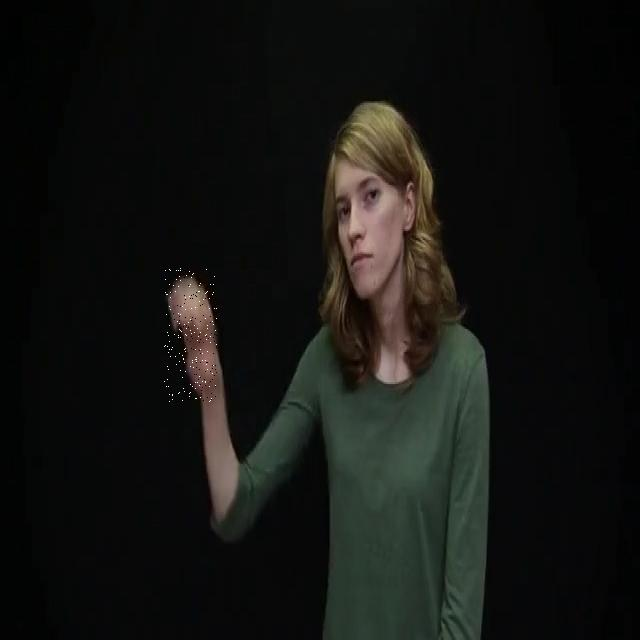pepper: (164, 268, 217, 402)
